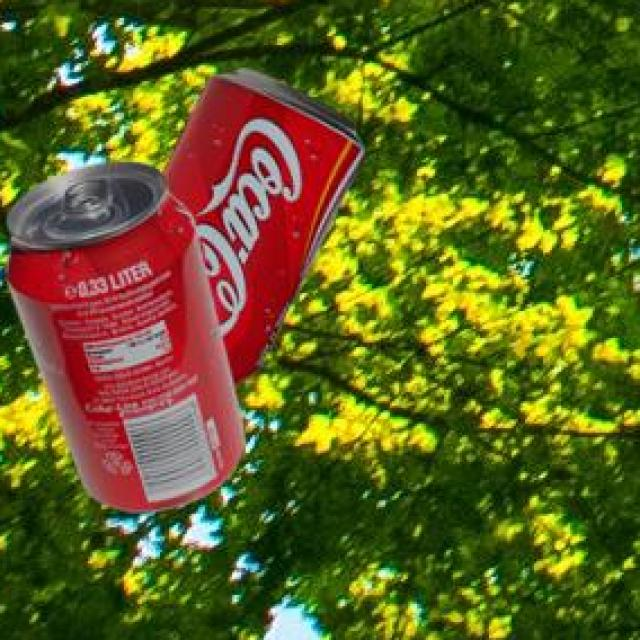logam: (3, 159, 240, 508), (159, 64, 362, 384)
